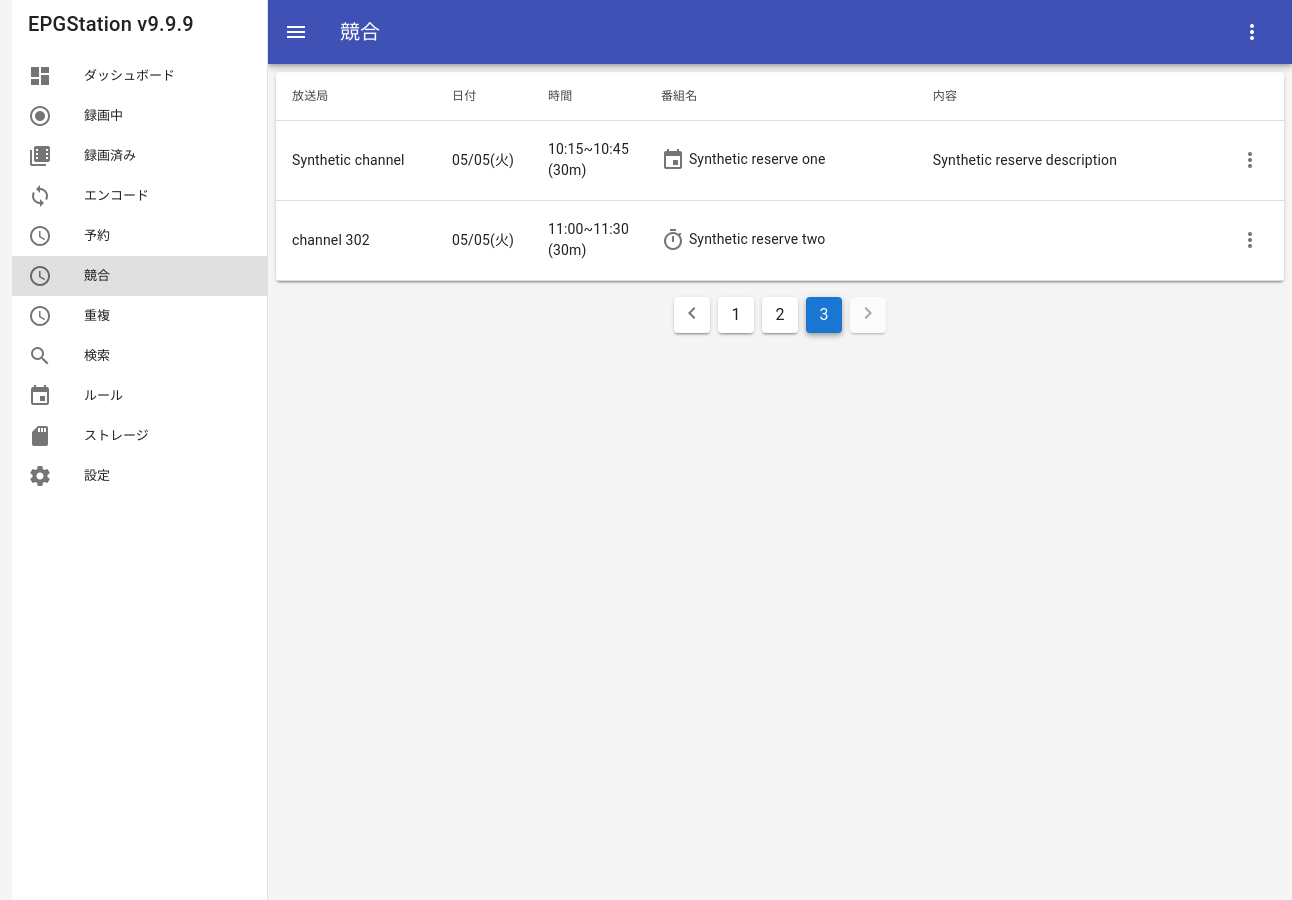
Test: Reserves delete, unlock and update actions › [AC 2.8] reports reserve update failure from the title bar without a list refetch
Expected: the text "Synthetic reserve one" is shown, [689, 151, 826, 167]
Click the button named "予約メニュー": x=1252, y=32 [1228, 8, 1276, 56]
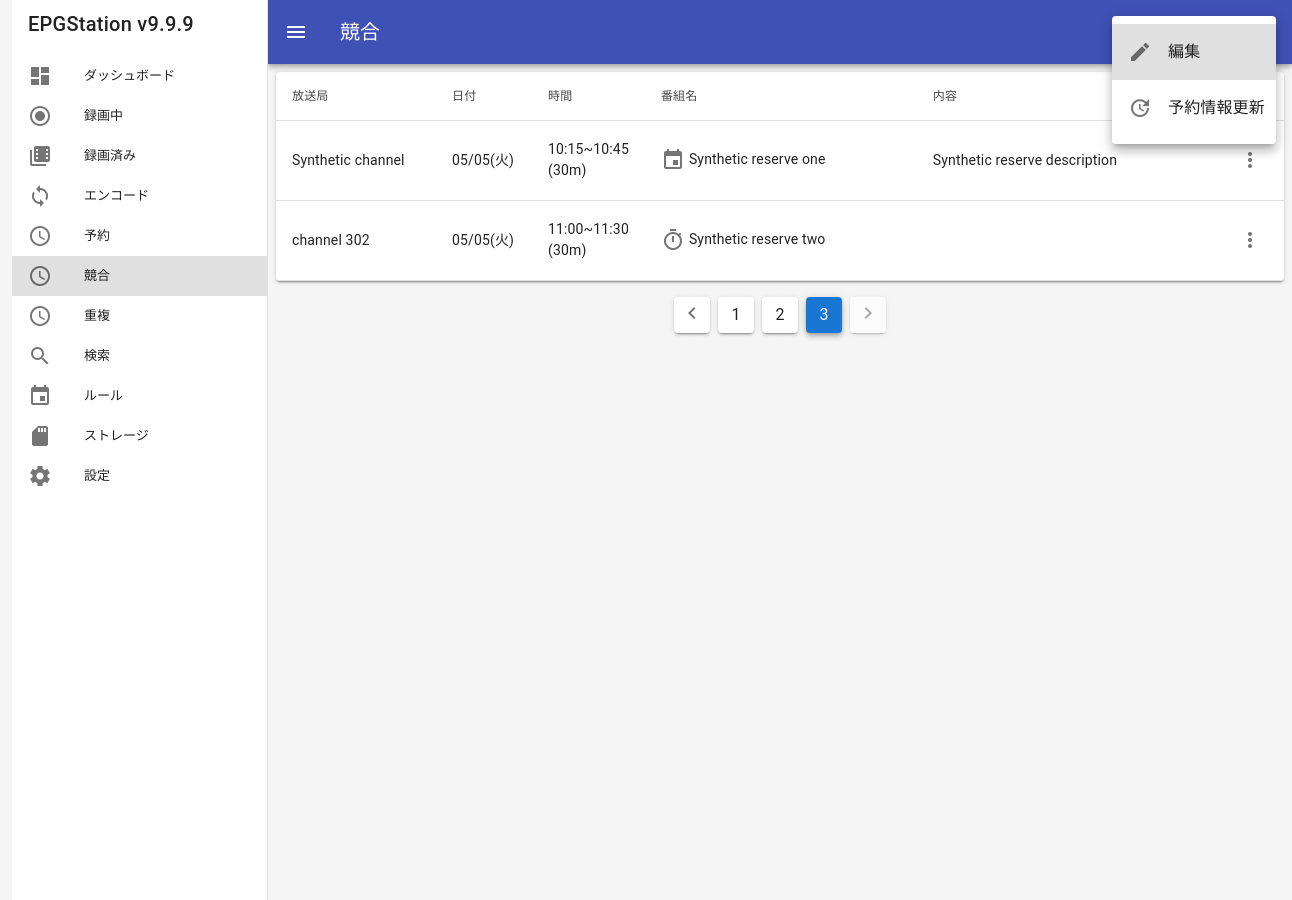
Click the menu item "予約情報更新": x=1196, y=108 [1128, 96, 1265, 120]
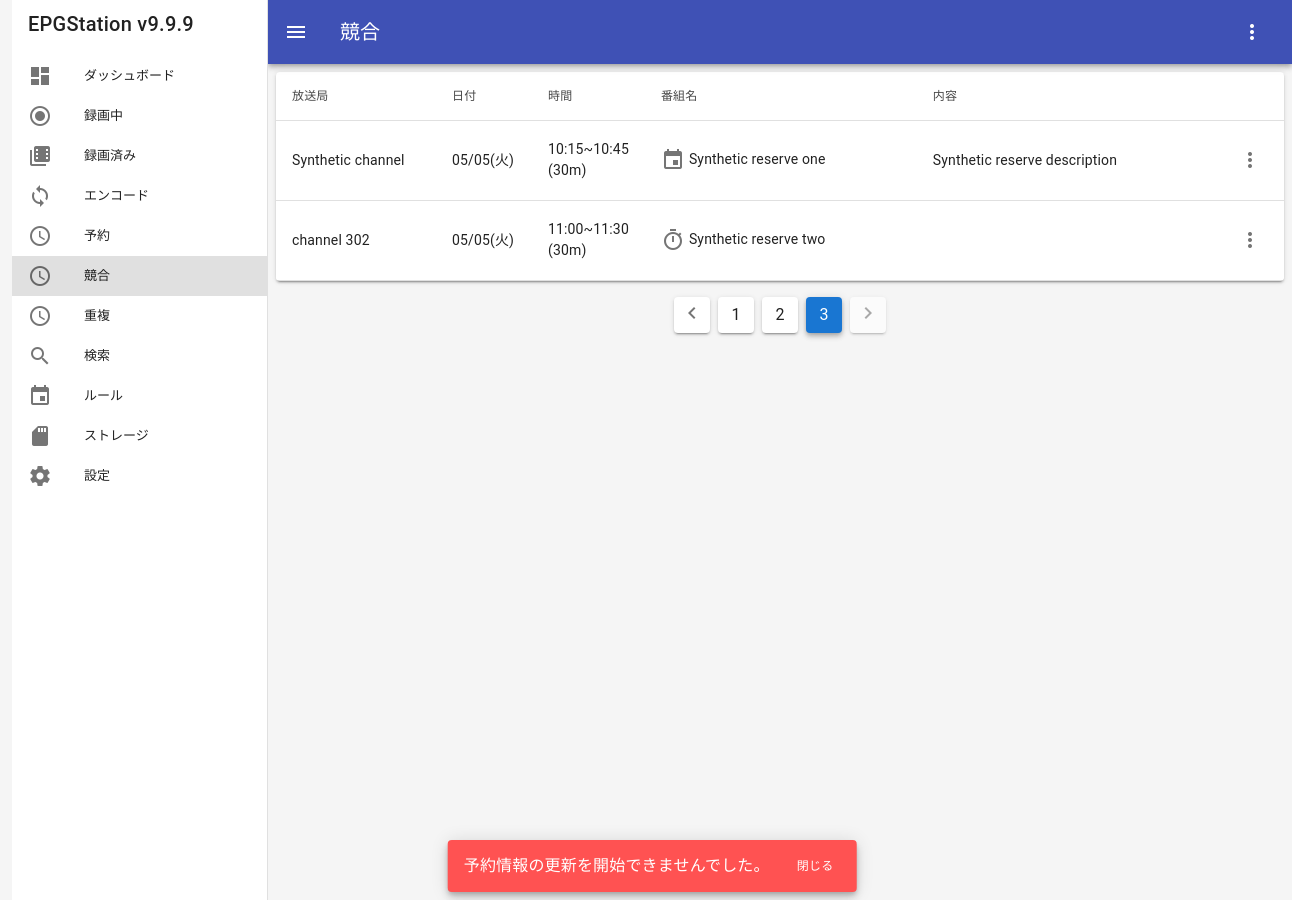
Expected: the message shows "予約情報の更新を開始できませんでした。", [464, 856, 770, 875]
